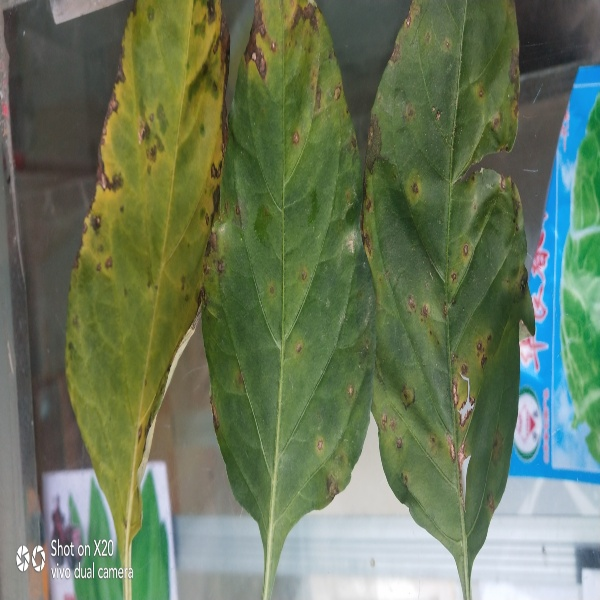Anthrax: (369, 1, 522, 542), (207, 1, 370, 503), (66, 1, 227, 454)
